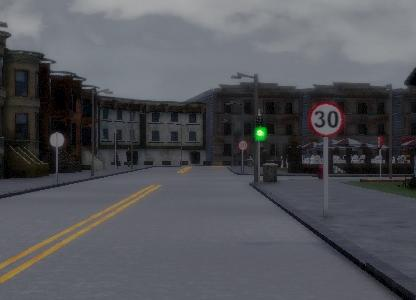Speed_30: (307, 102, 345, 137)
